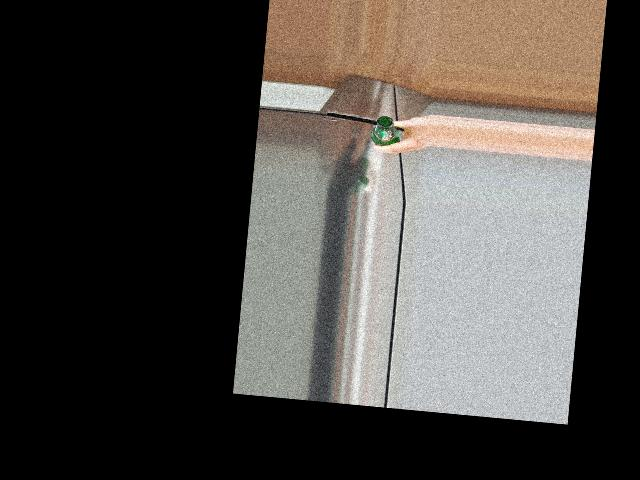beer: (370, 114, 401, 147)
